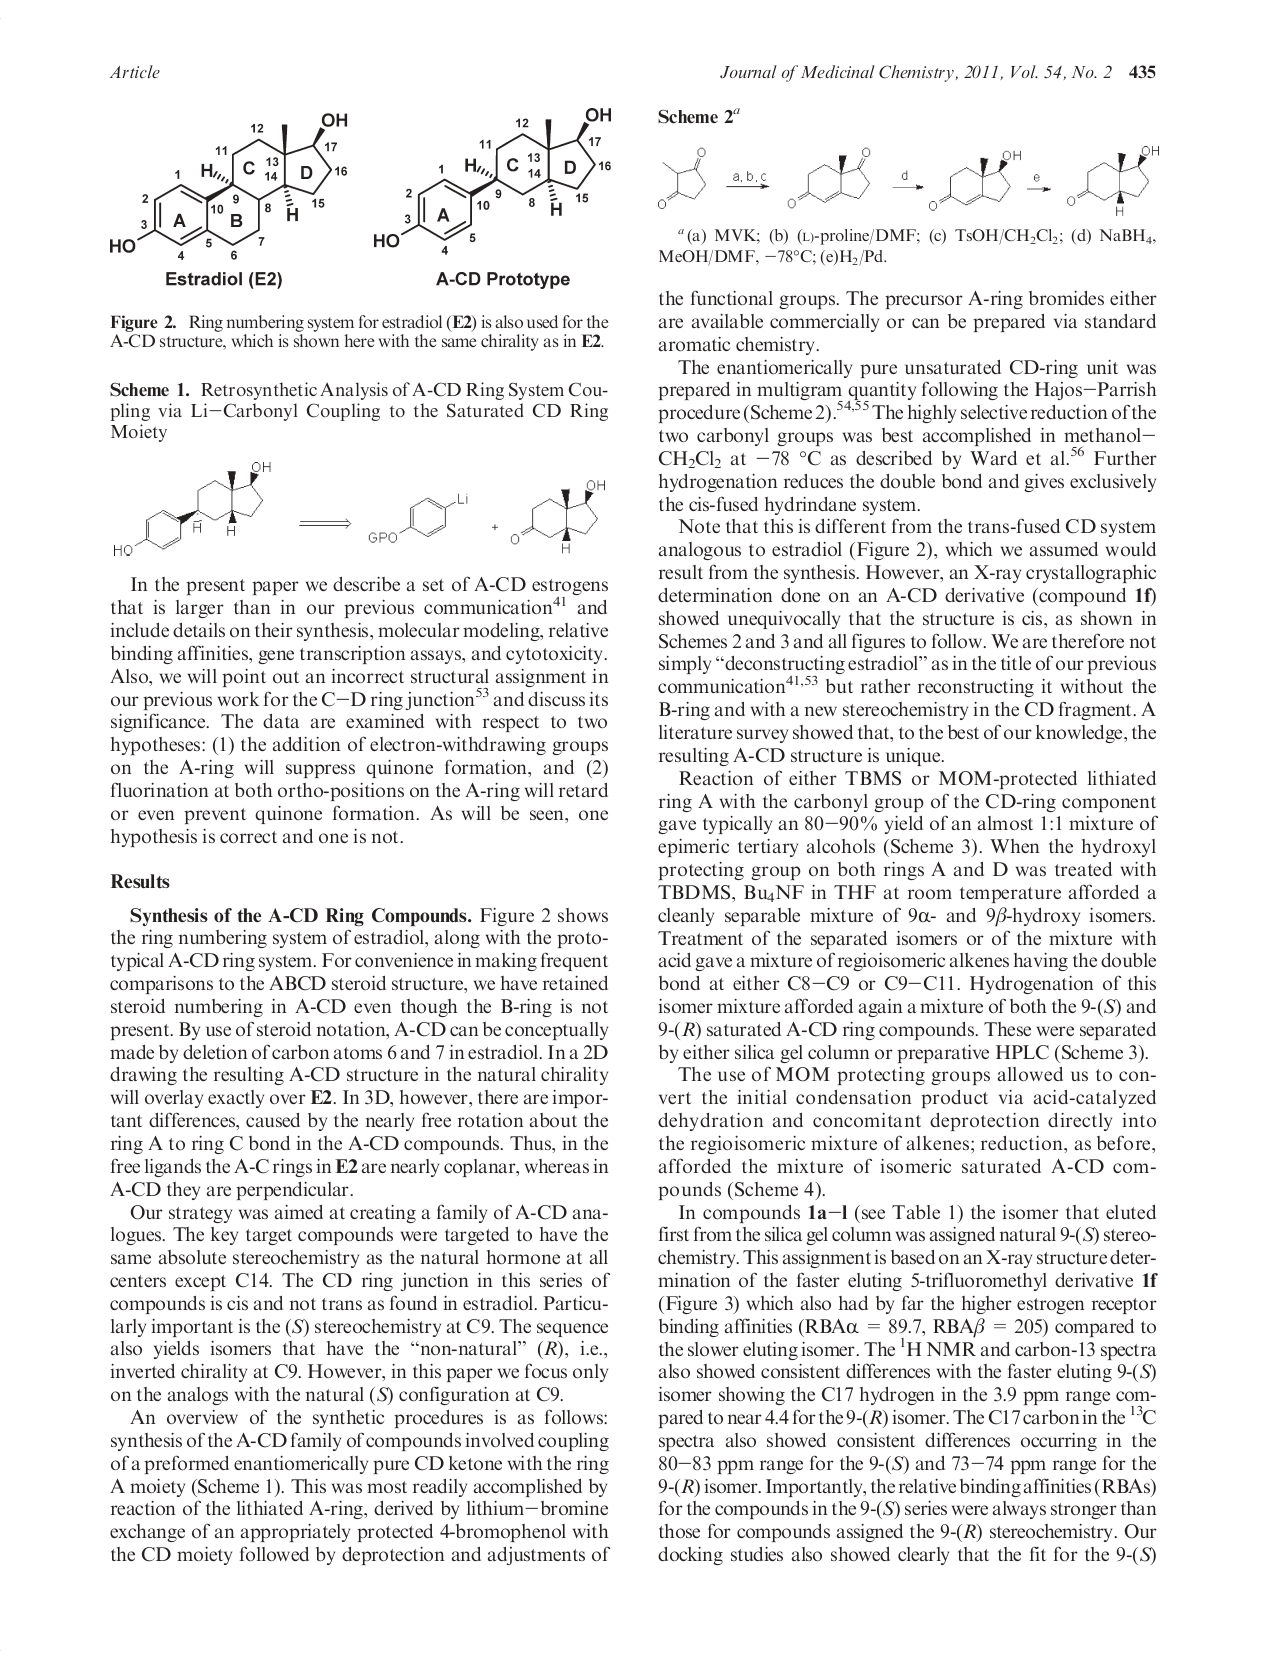exist_molecular: (104, 110, 348, 255), (372, 106, 613, 250), (112, 459, 274, 556), (509, 476, 606, 557), (1064, 144, 1162, 218), (366, 488, 473, 547), (928, 148, 1023, 211), (785, 144, 874, 207), (652, 142, 711, 211)
